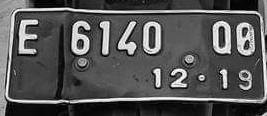0: (139, 19, 166, 56)
1: (94, 19, 115, 58)
4: (112, 20, 142, 57)
6: (68, 18, 95, 58)
E: (16, 15, 44, 57)
O: (232, 20, 257, 58)
Q: (206, 20, 234, 58)
